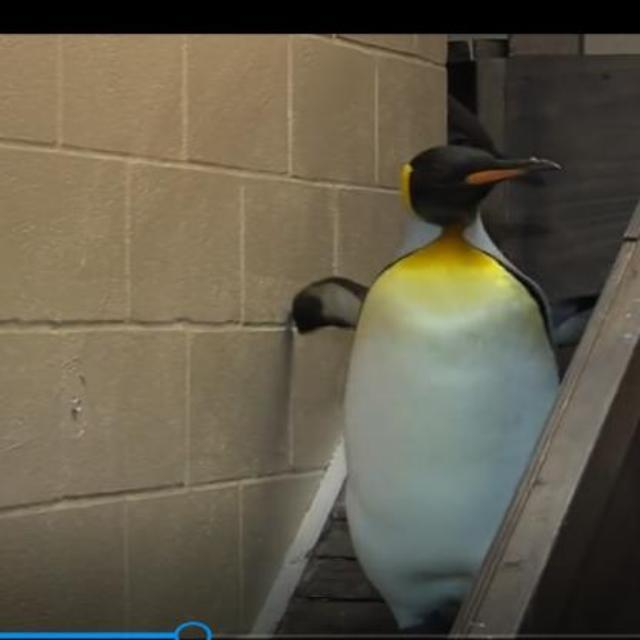penguin: (289, 142, 566, 632)
